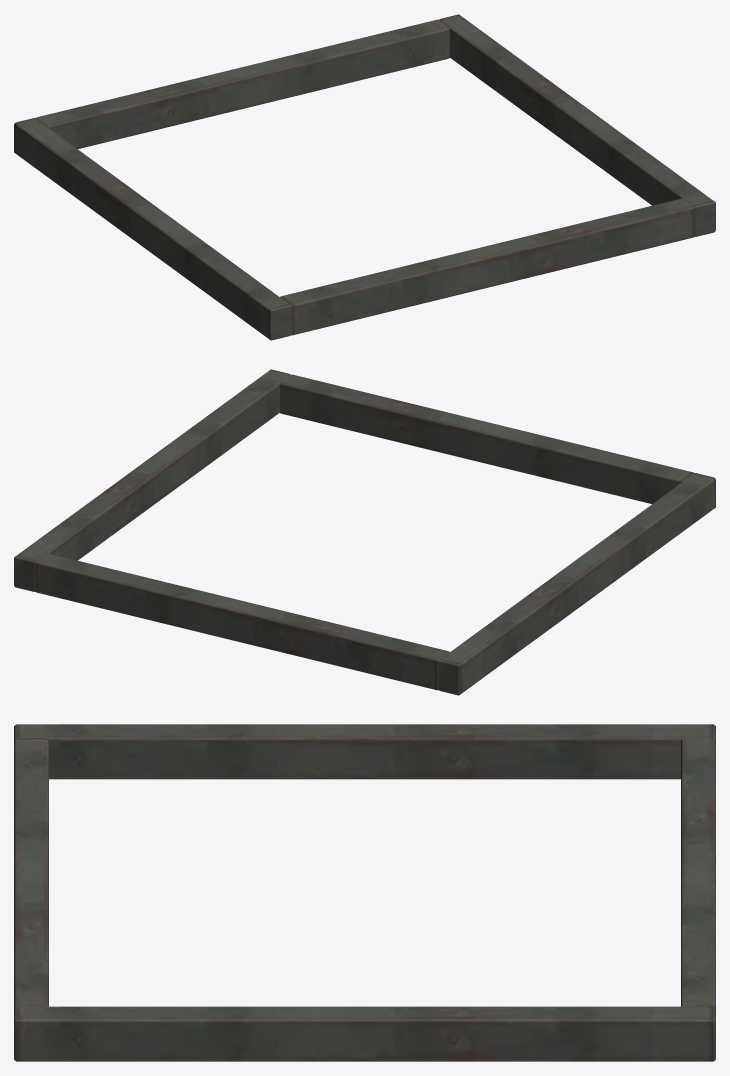
The model's file is floor.frame.spacestation.glb.
3 views of the same model, one above another, from view 1: azimuth 30°, elevation 25°; view 2: azimuth 150°, elevation 25°; view 3: azimuth 270°, elevation 25° (orthographic). The views are drawn at different scales.
Visible parts, largest first — view 1: model; view 2: model; view 3: model.
Part boxes in pixels (x1=…): model: x1=14, y1=14, x2=715, y2=340; model: x1=14, y1=369, x2=715, y2=695; model: x1=14, y1=724, x2=715, y2=1061.
Bounding box in the file's own units: 3.01 × 0.2 × 3.
Materials: 1 (1 with a texture image).
